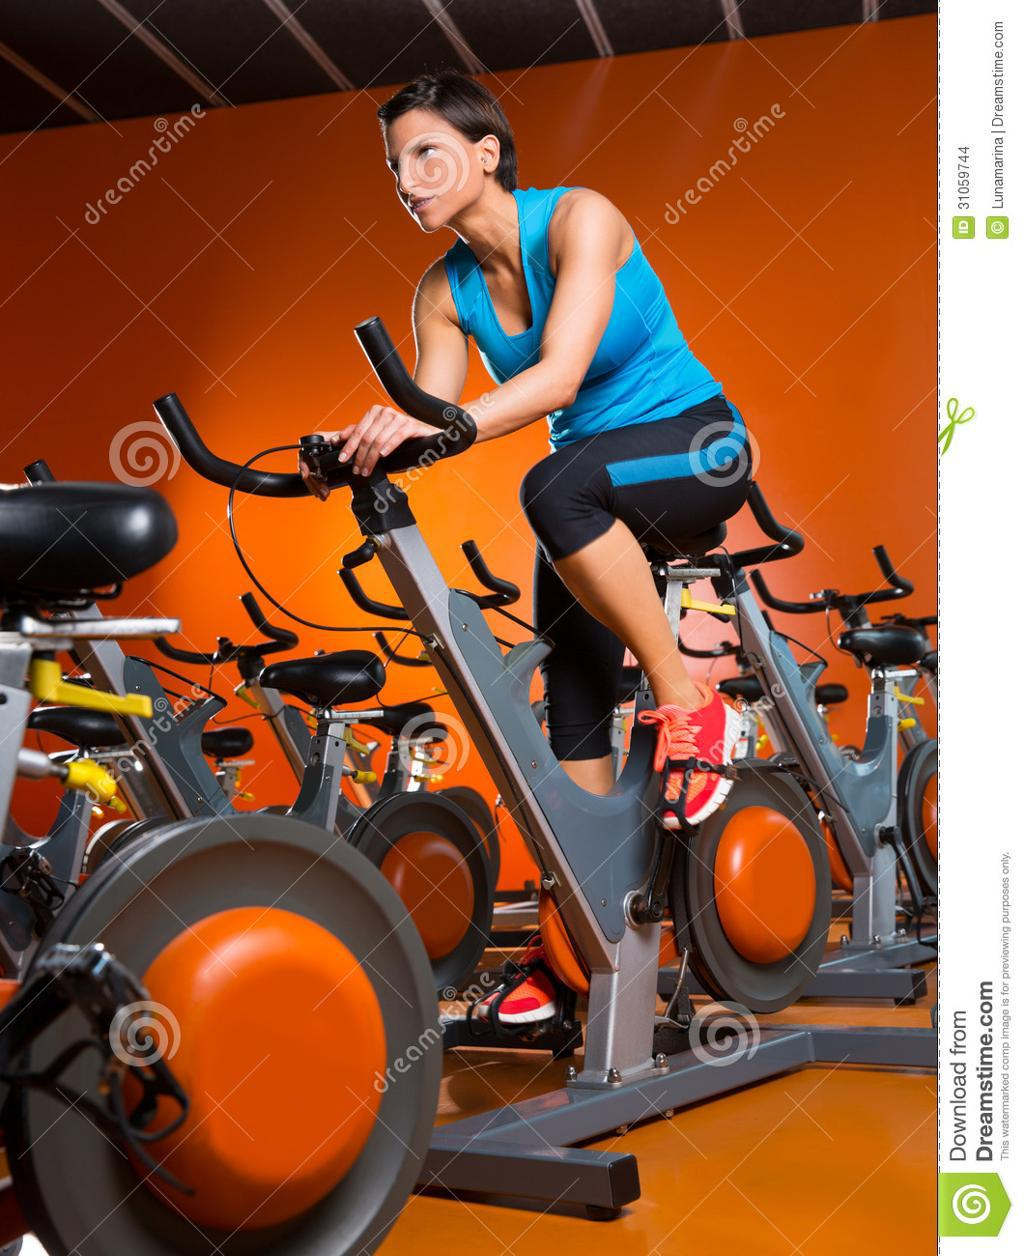face: (379, 112, 475, 232)
